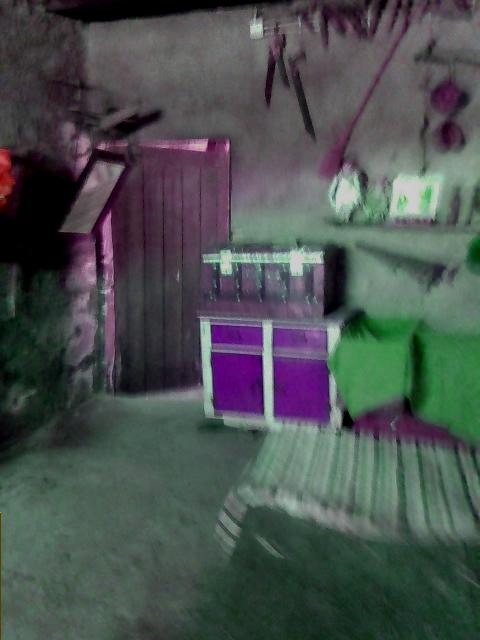semi_door: (99, 136, 231, 402)
